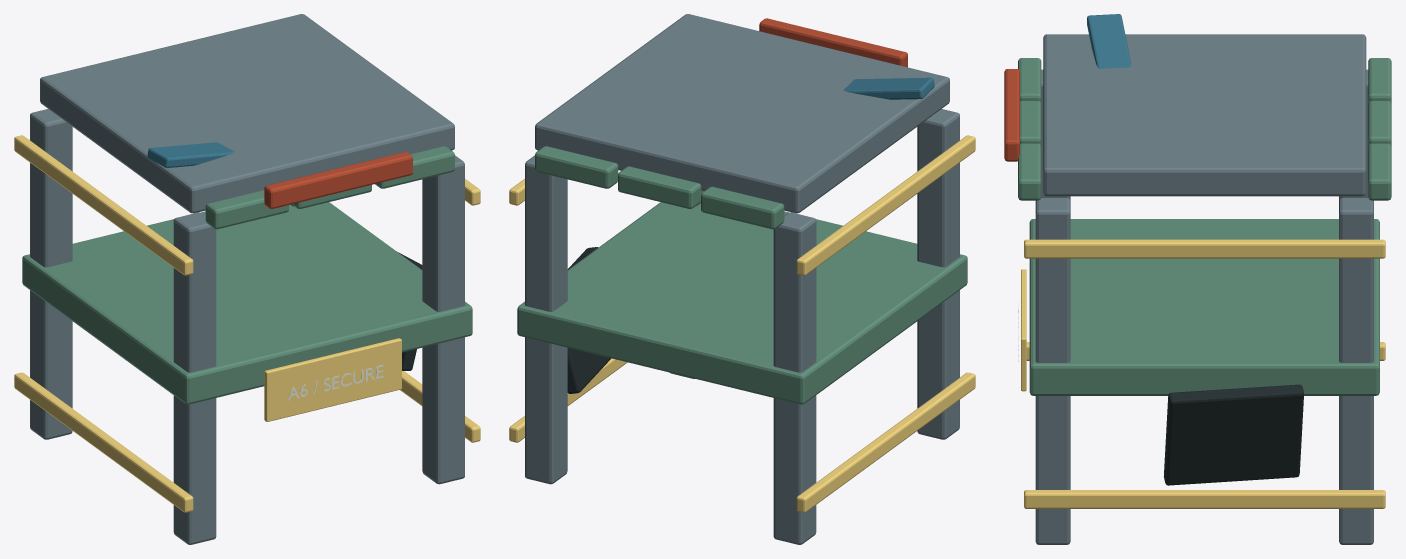
Rendered from secure_case_d1.glb.
3 views of the same model, side by side, from view 1: azimuth 30°, elevation 25°; view 2: azimuth 150°, elevation 25°; view 3: azimuth 270°, elevation 25° (orthographic). The views are drawn at different scales.
Visible parts, largest first — view 1: Reinforced lid.001, Crate shell.004, Corner post.016, Corner post.018, Corner post.017, Identification placard.004, Vertical tie band.016, Vertical tie band.017, Lock bar.001, Lid slat.024, Peeled lid corner.001, Lid slat.026 (+3 smaller); view 2: Crate shell.004, Reinforced lid.001, Corner post.017, Corner post.019, Corner post.016, Vertical tie band.016, Vertical tie band.017, Lid slat.027, Lid slat.029, Lid slat.028, Lock bar.001, Peeled lid corner.001 (+2 smaller); view 3: Reinforced lid.001, Crate shell.004, Runover dent.001, Corner post.018, Corner post.019, Vertical tie band.019, Vertical tie band.018, Peeled lid corner.001, Lock bar.001, Lid slat.029, Lid slat.026, Lid slat.028 (+4 smaller).
Part boxes in pixels (x1,y1,x2,y2): Reinforced lid.001: (40, 14, 454, 213); Crate shell.004: (22, 202, 472, 404); Corner post.016: (173, 212, 216, 544); Corner post.018: (422, 155, 464, 484); Corner post.017: (30, 109, 72, 439); Identification placard.004: (264, 338, 401, 421); Vertical tie band.016: (14, 372, 193, 512); Vertical tie band.017: (14, 135, 193, 275); Lock bar.001: (264, 152, 412, 208); Lid slat.024: (205, 190, 288, 229); Peeled lid corner.001: (147, 142, 234, 167); Lid slat.026: (375, 146, 454, 188); Crate shell.004: (517, 202, 967, 404); Reinforced lid.001: (535, 14, 949, 213); Corner post.017: (773, 212, 816, 544); Corner post.019: (525, 155, 567, 484); Corner post.016: (917, 109, 959, 439); Vertical tie band.016: (796, 372, 975, 512); Vertical tie band.017: (796, 135, 975, 275); Lid slat.027: (701, 186, 784, 229); Lid slat.029: (535, 146, 618, 188); Lid slat.028: (618, 166, 701, 208); Lock bar.001: (759, 18, 907, 67); Peeled lid corner.001: (843, 77, 934, 99); Reinforced lid.001: (1043, 34, 1366, 196); Crate shell.004: (1029, 219, 1379, 395); Runover dent.001: (1163, 384, 1303, 485); Corner post.018: (1035, 198, 1070, 544); Corner post.019: (1339, 198, 1373, 544); Vertical tie band.019: (1024, 239, 1385, 258); Vertical tie band.018: (1024, 490, 1385, 508); Peeled lid corner.001: (1087, 14, 1131, 68); Lock bar.001: (1004, 69, 1019, 161); Lid slat.029: (1368, 143, 1391, 200); Lid slat.026: (1018, 143, 1041, 200); Lid slat.028: (1368, 100, 1391, 146).
Size of the model in its own units: 2 by 2.21 by 1.99.
